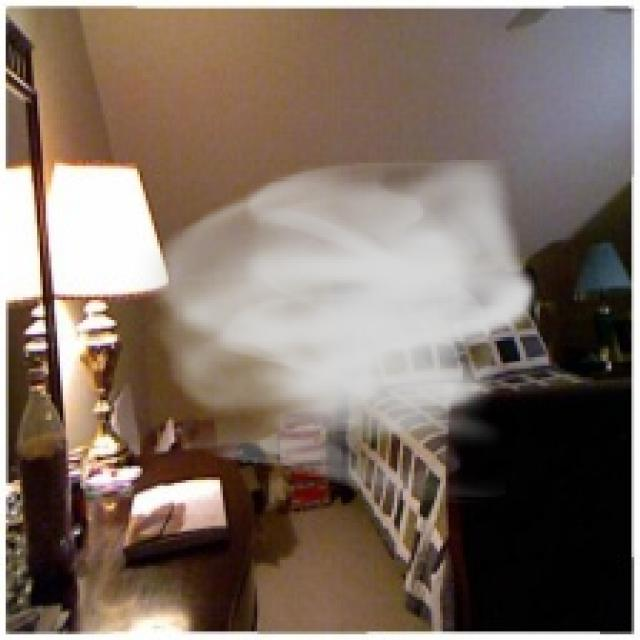smoke: (134, 148, 540, 506)
